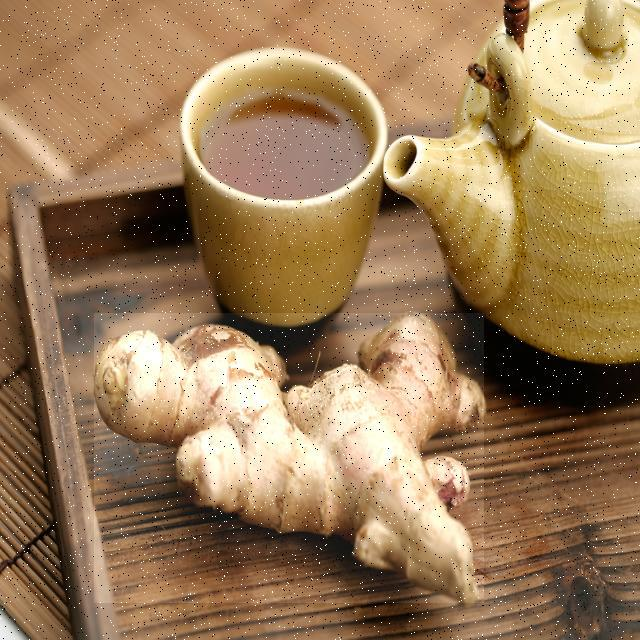ginger: (94, 312, 483, 602)
